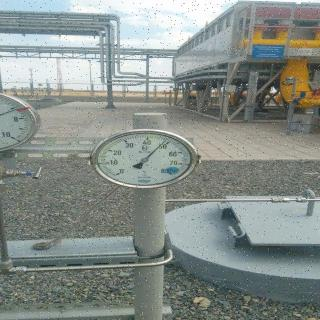gauge: (89, 128, 200, 190), (0, 90, 40, 152), (110, 168, 125, 180), (166, 170, 176, 179), (140, 156, 150, 164), (162, 140, 165, 143)
